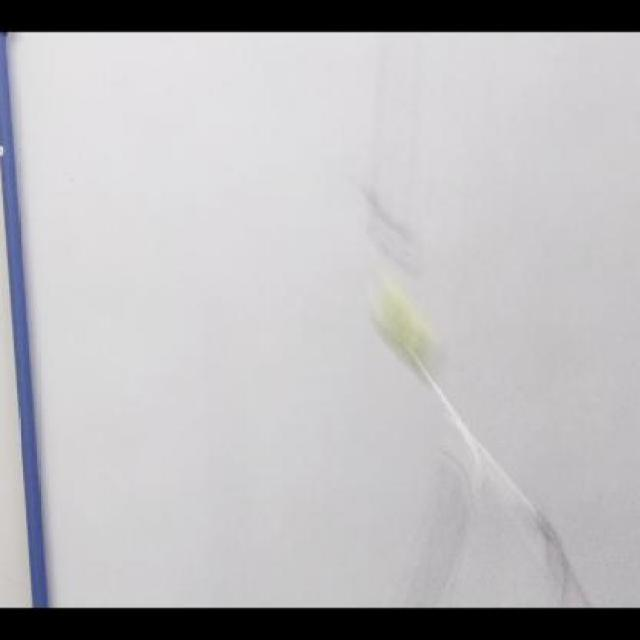baseball: (368, 278, 444, 387)
